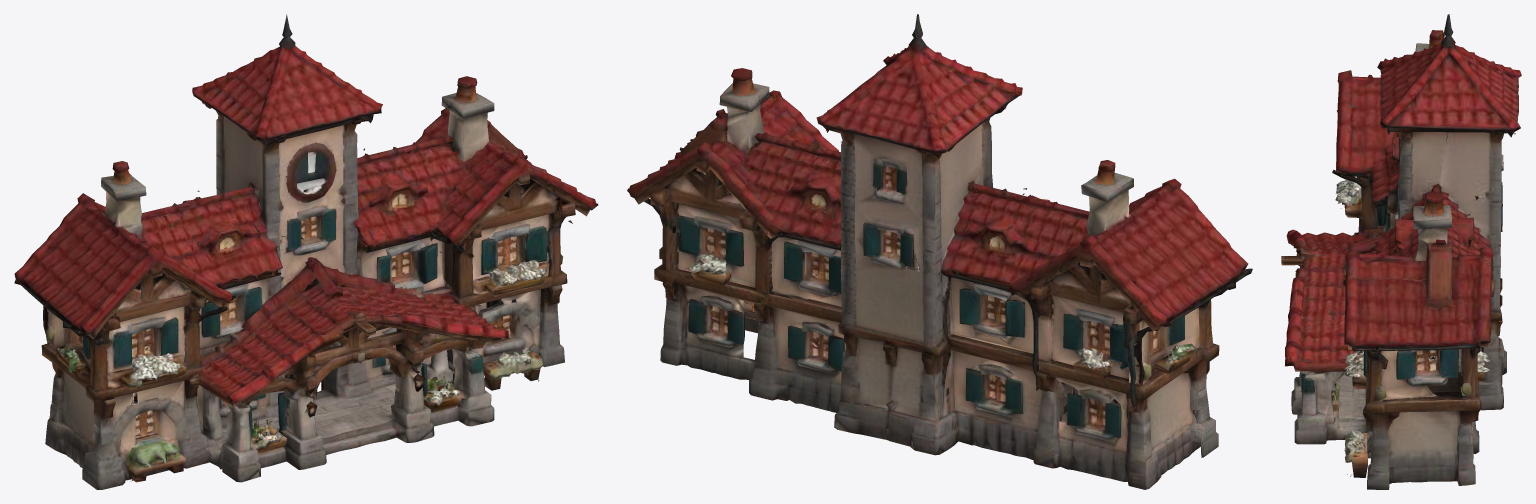
File: candidate.glb
3 renders of one model, left to right at view 1: azimuth 30°, elevation 25°; view 2: azimuth 150°, elevation 25°; view 3: azimuth 270°, elevation 25°, orthographic. The views are drawn at different scales.
Parts seen in each view (by area): view 1: alpine__finance_2__native_mobile; view 2: alpine__finance_2__native_mobile; view 3: alpine__finance_2__native_mobile.
Part boxes in pixels (<box>): alpine__finance_2__native_mobile: <box>14,14,598,489</box>; alpine__finance_2__native_mobile: <box>627,14,1252,489</box>; alpine__finance_2__native_mobile: <box>1281,14,1521,489</box>.
Size of the model in its own units: 1 by 0.6994 by 0.409.
Materials: 1 (1 with a texture image).
